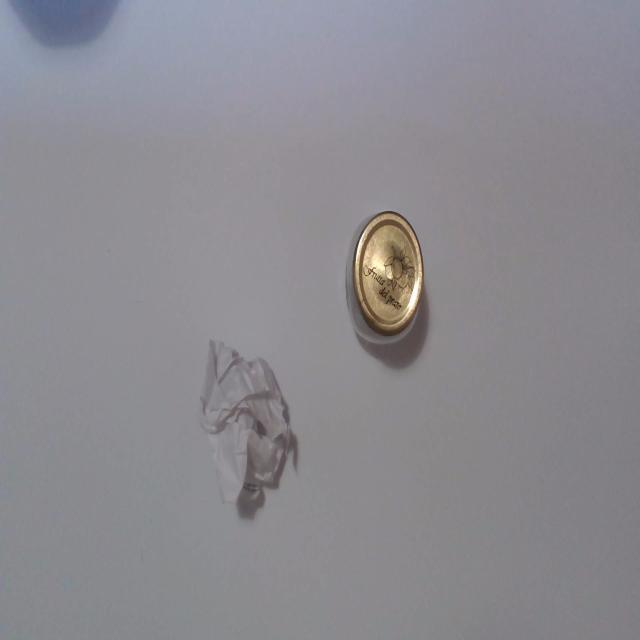Paper: (198, 334, 302, 528)
